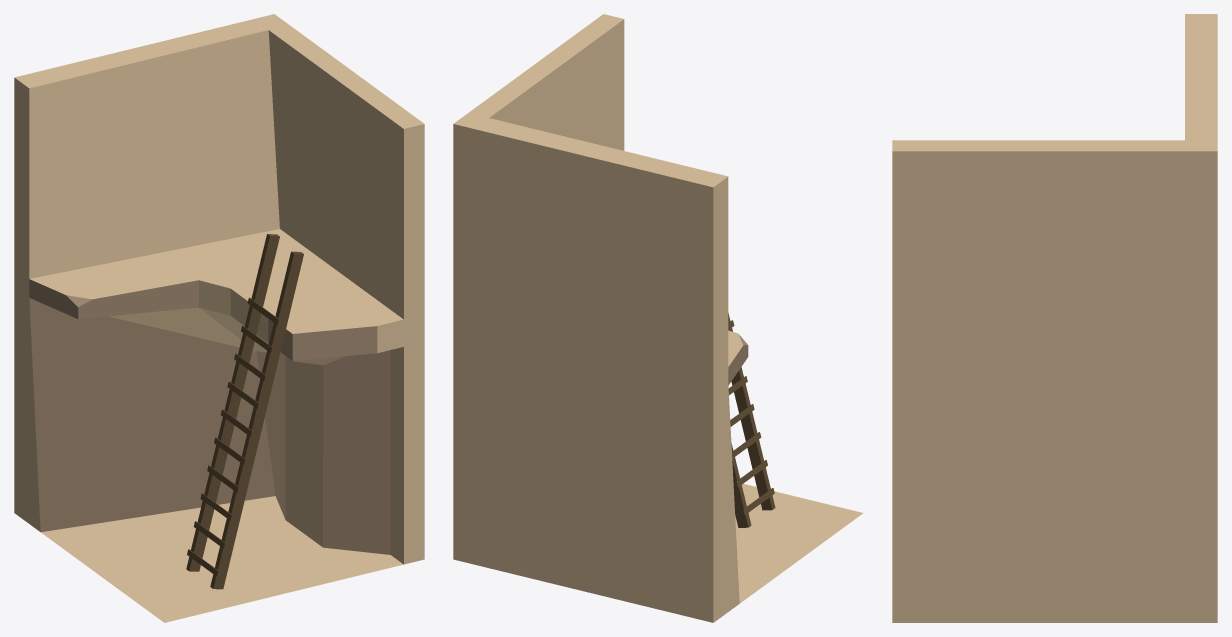
Rendered from CornerLadder.fbx.
3 views of the same model, side by side, from view 1: azimuth 30°, elevation 25°; view 2: azimuth 150°, elevation 25°; view 3: azimuth 270°, elevation 25° (orthographic). The views are drawn at different scales.
Parts seen in each view (by area): view 1: CornerLadder, CornerLadderLadder; view 2: CornerLadder, CornerLadderLadder; view 3: CornerLadder.
Boxes of the visible parts, x1,y1,x2,y2 form: CornerLadder: (14,14,424,622); CornerLadderLadder: (186,234,303,589); CornerLadder: (453,14,863,622); CornerLadderLadder: (728,313,775,527); CornerLadder: (892,14,1217,622).
Bounding box in the file's own units: 5 × 8 × 5.
